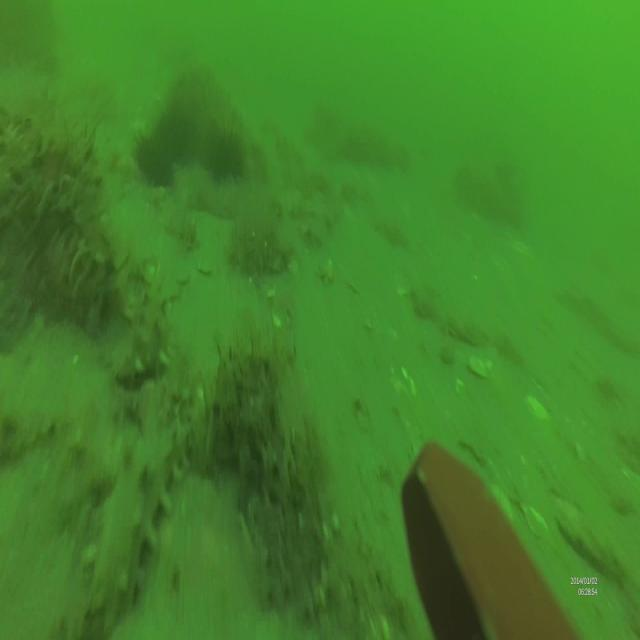echinus: (131, 129, 177, 190), (207, 136, 242, 182)
holothurian: (91, 379, 202, 626)
